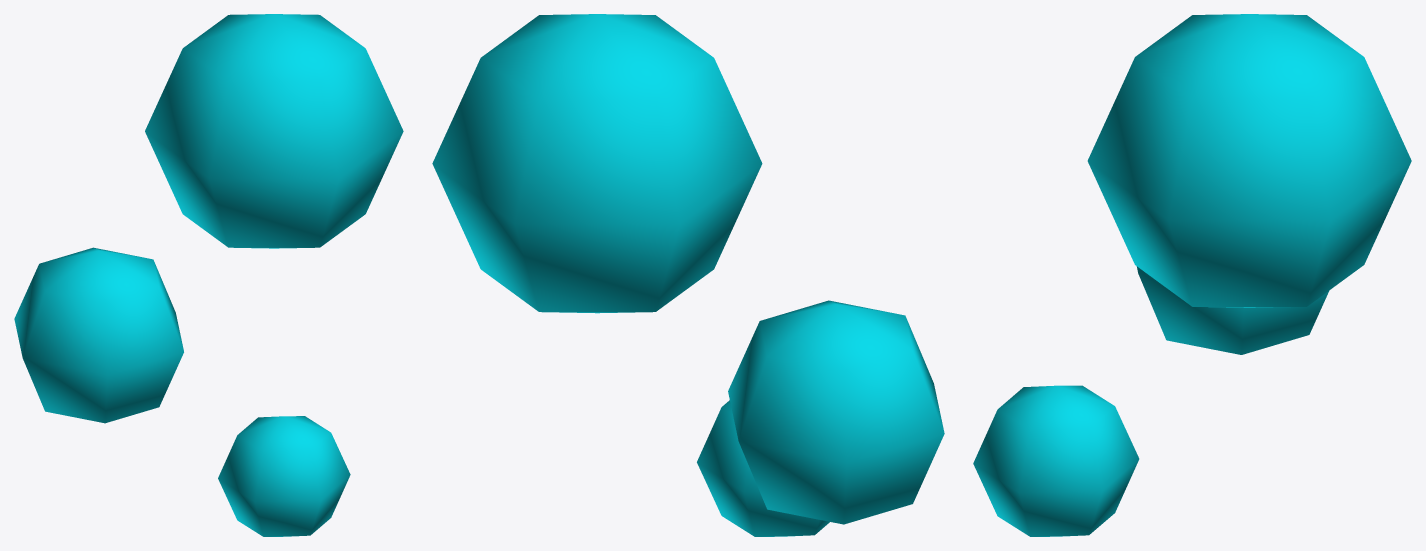
File: bubbles.glb
3 views of the same model, side by side, from view 1: azimuth 30°, elevation 25°; view 2: azimuth 150°, elevation 25°; view 3: azimuth 270°, elevation 25° (orthographic). The views are drawn at different scales.
Parts seen in each view (by area): view 1: Sphere, Sphere.001, Sphere.002; view 2: Sphere, Sphere.001, Sphere.002; view 3: Sphere, Sphere.002, Sphere.001.
Boxes of the visible parts, bbox=[...] form: Sphere: bbox=[145, 14, 403, 248]; Sphere.001: bbox=[14, 247, 183, 423]; Sphere.002: bbox=[218, 416, 350, 536]; Sphere: bbox=[432, 14, 762, 313]; Sphere.001: bbox=[728, 300, 944, 524]; Sphere.002: bbox=[697, 400, 829, 536]; Sphere: bbox=[1087, 14, 1411, 307]; Sphere.002: bbox=[973, 385, 1139, 536]; Sphere.001: bbox=[1136, 266, 1329, 354].
Bounding box in the file's own units: 2.85 × 3.42 × 2.41.
